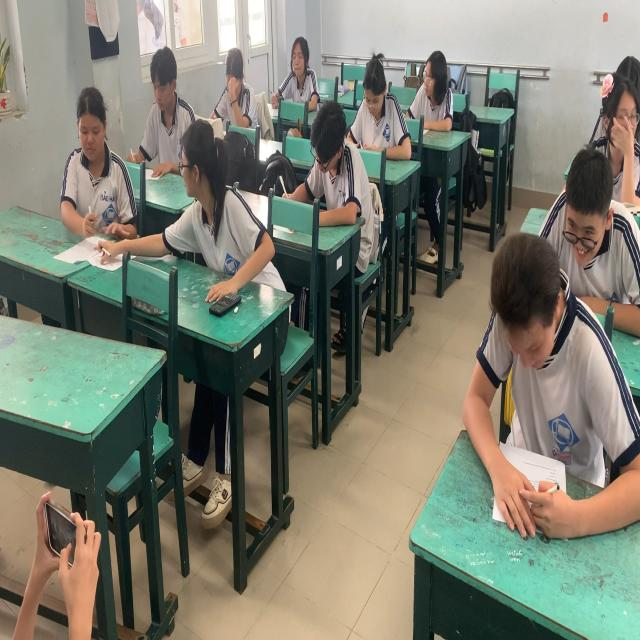cheating: (164, 122, 259, 296), (550, 156, 640, 288), (64, 81, 132, 250), (589, 73, 640, 146)
not_cheating: (461, 236, 631, 544), (296, 112, 368, 215), (351, 43, 405, 143), (207, 32, 255, 130), (407, 44, 453, 136), (274, 32, 319, 120), (152, 44, 185, 144)
